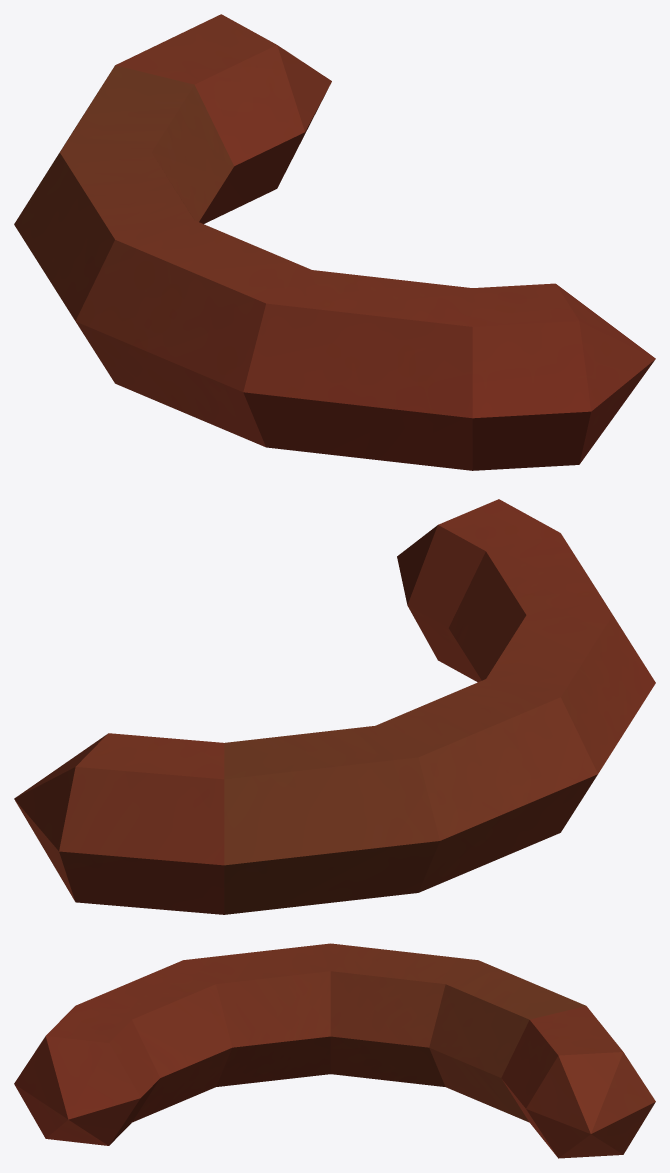
File: sausage.glb
The picture shows the model from 3 angles, top to bottom: view 1: azimuth 30°, elevation 25°; view 2: azimuth 150°, elevation 25°; view 3: azimuth 270°, elevation 25°; orthographic projection. The views are drawn at different scales.
Visible parts, largest first — view 1: sausage; view 2: sausage; view 3: sausage.
Boxes of the visible parts, left/top/right/bottom form: sausage: left=14, top=14, right=655, bottom=470; sausage: left=14, top=499, right=655, bottom=914; sausage: left=14, top=943, right=655, bottom=1158.
Bounding box in the file's own units: 0.5949 × 0.1866 × 1.05.
Materials: 1 (1 with a texture image).
